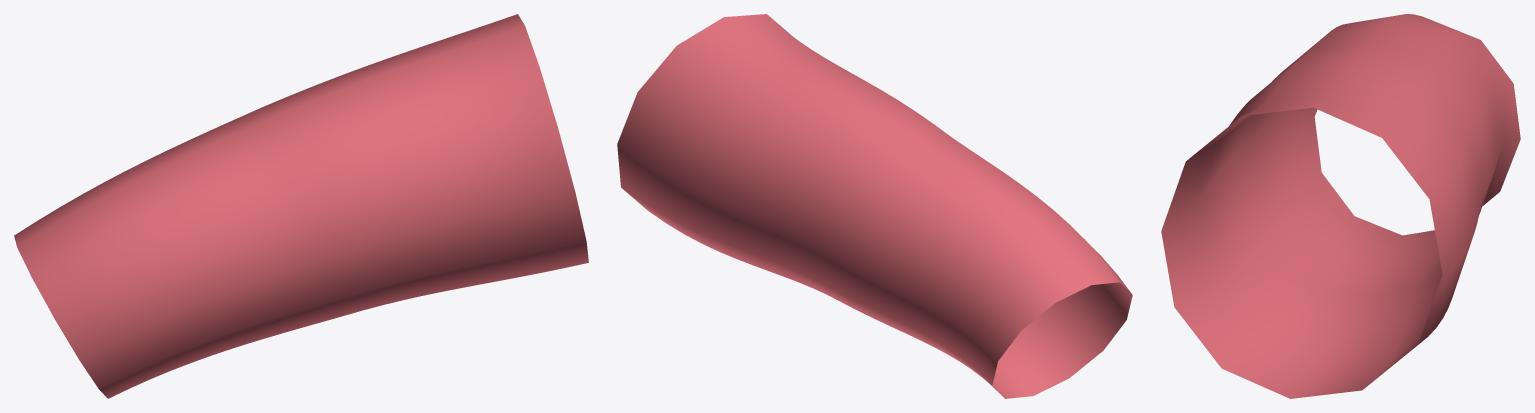
3 renders of one model, left to right at view 1: azimuth 30°, elevation 25°; view 2: azimuth 150°, elevation 25°; view 3: azimuth 270°, elevation 25°, orthographic. The views are drawn at different scales.
Visible parts, largest first — view 1: ZA_fb4c5140e05e141e; view 2: ZA_fb4c5140e05e141e; view 3: ZA_fb4c5140e05e141e.
Boxes of the visible parts, <box> form: ZA_fb4c5140e05e141e: <box>14,14,588,398</box>; ZA_fb4c5140e05e141e: <box>617,14,1132,398</box>; ZA_fb4c5140e05e141e: <box>1161,14,1520,398</box>.
Size of the model in its own units: 0.0523 by 0.0278 by 0.0264.
